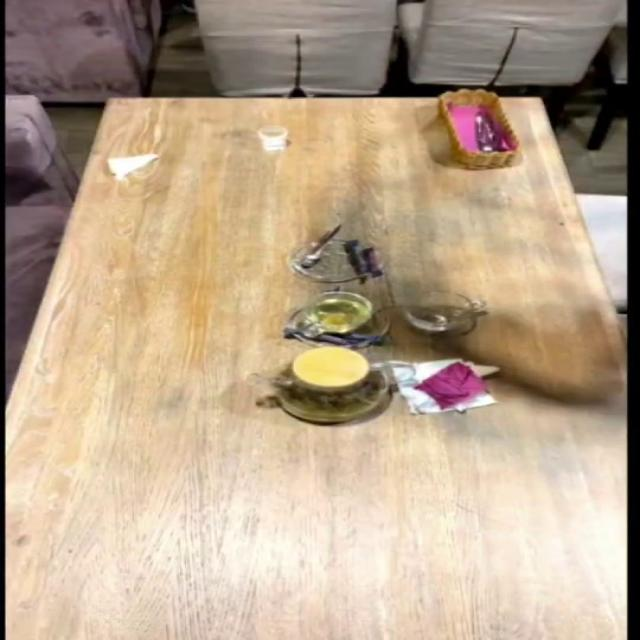tea: (263, 346, 437, 414)
